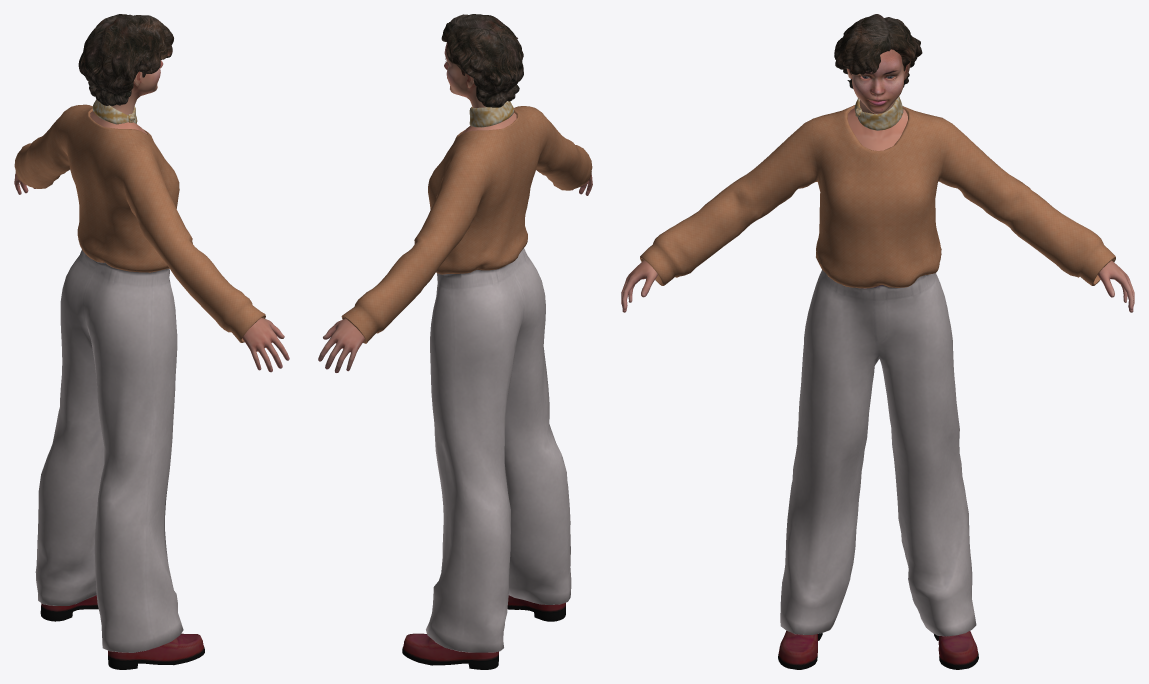
Rendered from sm_shorthairedwoman_web.fbx.
3 views of the same model, side by side, from view 1: azimuth 30°, elevation 25°; view 2: azimuth 150°, elevation 25°; view 3: azimuth 270°, elevation 25° (orthographic). The views are drawn at different scales.
Visible parts, largest first — view 1: sm_shorthairedwoman_web; view 2: sm_shorthairedwoman_web; view 3: sm_shorthairedwoman_web.
Boxes of the visible parts, x1,y1,x2,y2 form: sm_shorthairedwoman_web: (14, 14, 289, 669); sm_shorthairedwoman_web: (318, 14, 592, 669); sm_shorthairedwoman_web: (621, 14, 1134, 669).
Bounding box in the file's own units: 0.3284 × 1.9 × 1.38.
4 materials, 4 textured.
